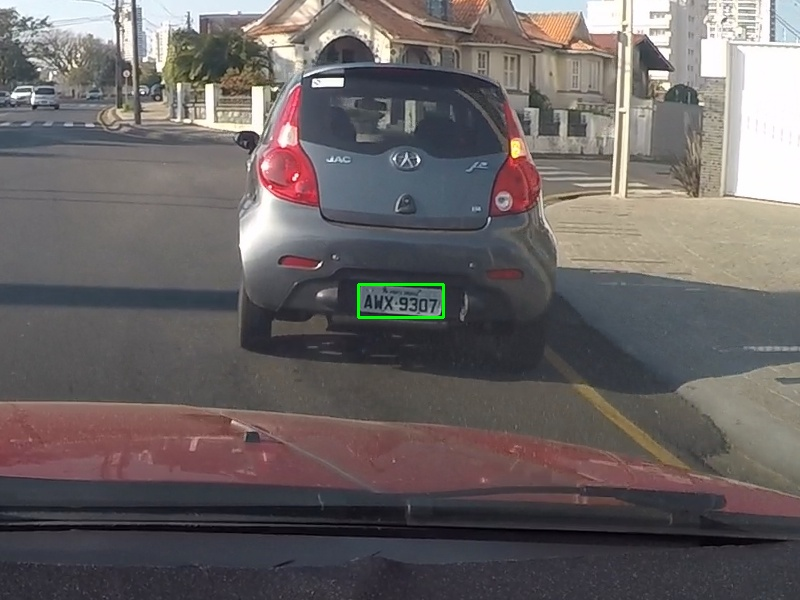placa: (358, 284, 443, 317)
